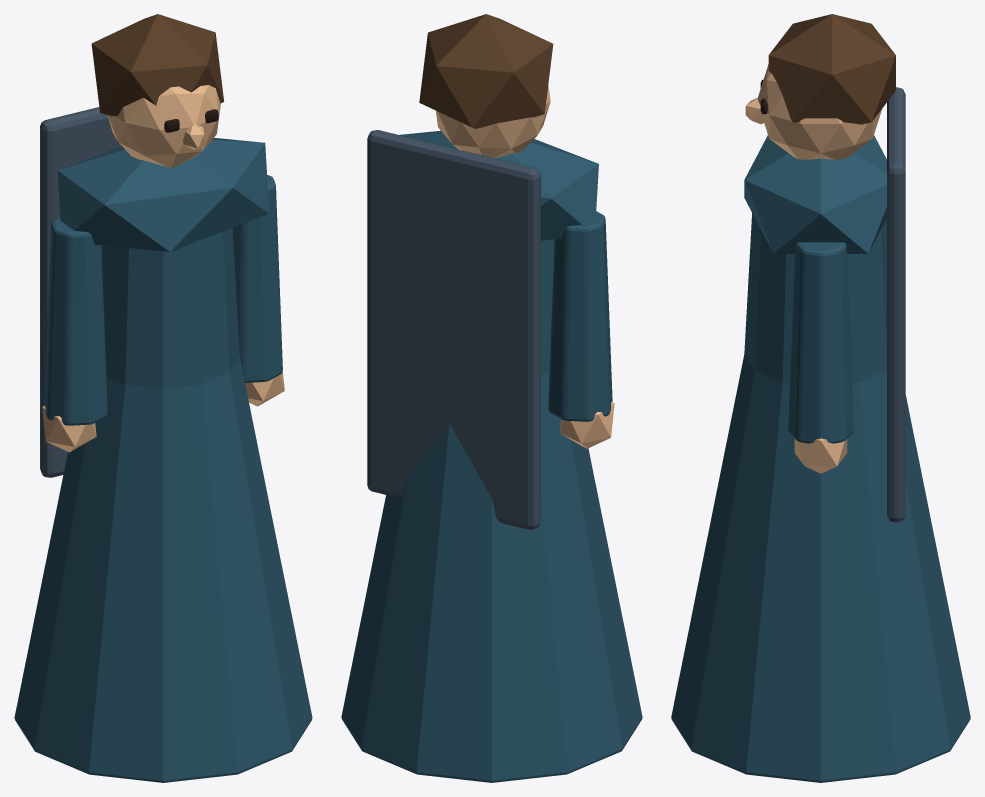
File: pilgrim1.glb
The picture shows the model from 3 angles, left to right: view 1: azimuth 30°, elevation 25°; view 2: azimuth 150°, elevation 25°; view 3: azimuth 270°, elevation 25°; orthographic projection.
Visible parts, largest first — view 1: Cone, Cone.001, Icosphere, Cone.003, Icosphere.004, Cone.002, Cube, Icosphere.003, Icosphere.002, Icosphere.001; view 2: Cone, Cube, Icosphere.004, Cone.003, Icosphere, Icosphere.003, Cone.001, Icosphere.002; view 3: Cone, Icosphere, Cone.002, Cone.001, Icosphere.004, Cube, Icosphere.003, Icosphere.001.
Boxes of the visible parts, left/top/right/bottom form: Cone: left=14, top=357, right=312, bottom=782; Cone.001: left=101, top=228, right=239, bottom=388; Icosphere: left=57, top=137, right=269, bottom=251; Cone.003: left=44, top=217, right=107, bottom=425; Icosphere.004: left=91, top=14, right=224, bottom=116; Cone.002: left=232, top=175, right=282, bottom=382; Cube: left=40, top=107, right=121, bottom=477; Icosphere.003: left=107, top=85, right=220, bottom=167; Icosphere.002: left=42, top=405, right=96, bottom=452; Icosphere.001: left=245, top=371, right=284, bottom=406; Cone: left=341, top=372, right=642, bottom=782; Cube: left=367, top=130, right=540, bottom=529; Icosphere.004: left=419, top=14, right=553, bottom=128; Cone.003: left=548, top=211, right=612, bottom=421; Icosphere: left=400, top=130, right=598, bottom=240; Icosphere.003: left=436, top=85, right=550, bottom=158; Cone.001: left=541, top=239, right=554, bottom=375; Icosphere.002: left=559, top=401, right=614, bottom=448; Cone: left=671, top=355, right=970, bottom=782; Icosphere: left=744, top=135, right=886, bottom=253; Cone.002: left=788, top=242, right=853, bottom=443; Cone.001: left=744, top=212, right=886, bottom=382; Icosphere.004: left=768, top=14, right=895, bottom=124; Cube: left=887, top=87, right=905, bottom=522; Icosphere.003: left=757, top=64, right=881, bottom=159; Icosphere.001: left=794, top=438, right=847, bottom=473.
Bounding box in the file's own units: 0.7964 × 2.07 × 0.7964.
